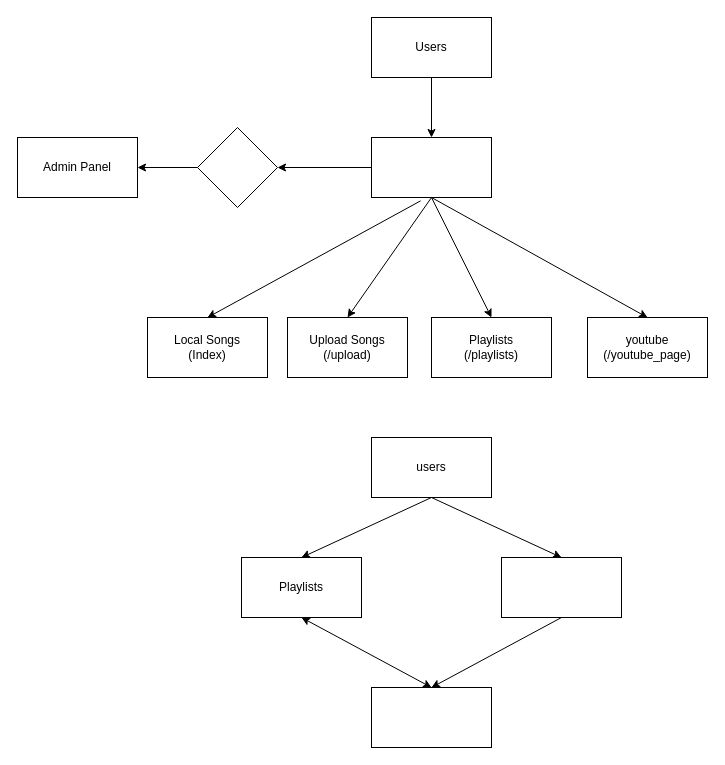
This 725x765 diagram has some shape labels left out. The shapes that lost their labels are listed below. From the top down, each one's box as (x1, y1, x2, y2) in pixels, then its label:
(196, 126, 278, 208): If Admin
(370, 136, 492, 198): Check user role
(500, 556, 622, 618): Songs
(370, 686, 492, 748): Playlist_songs
